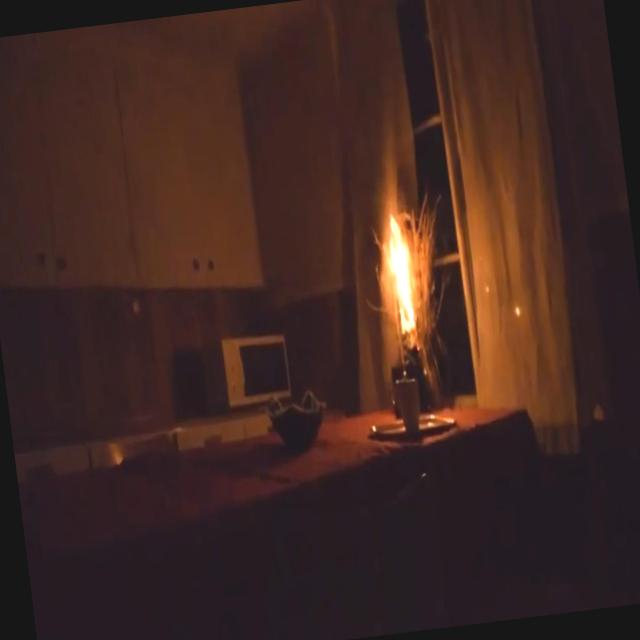fire: (346, 142, 448, 384)
